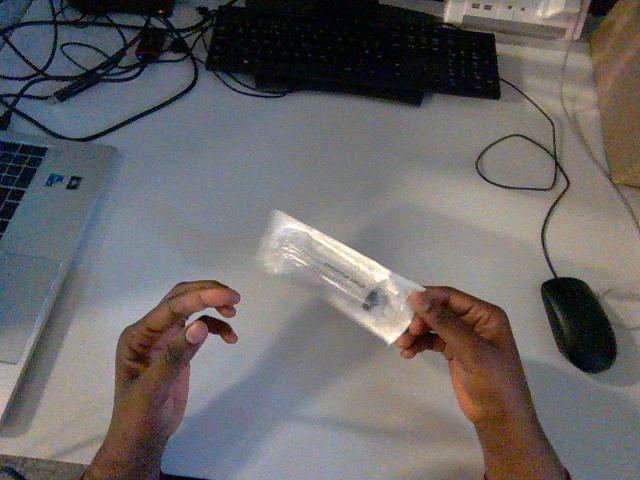syringe: (258, 211, 422, 343)
